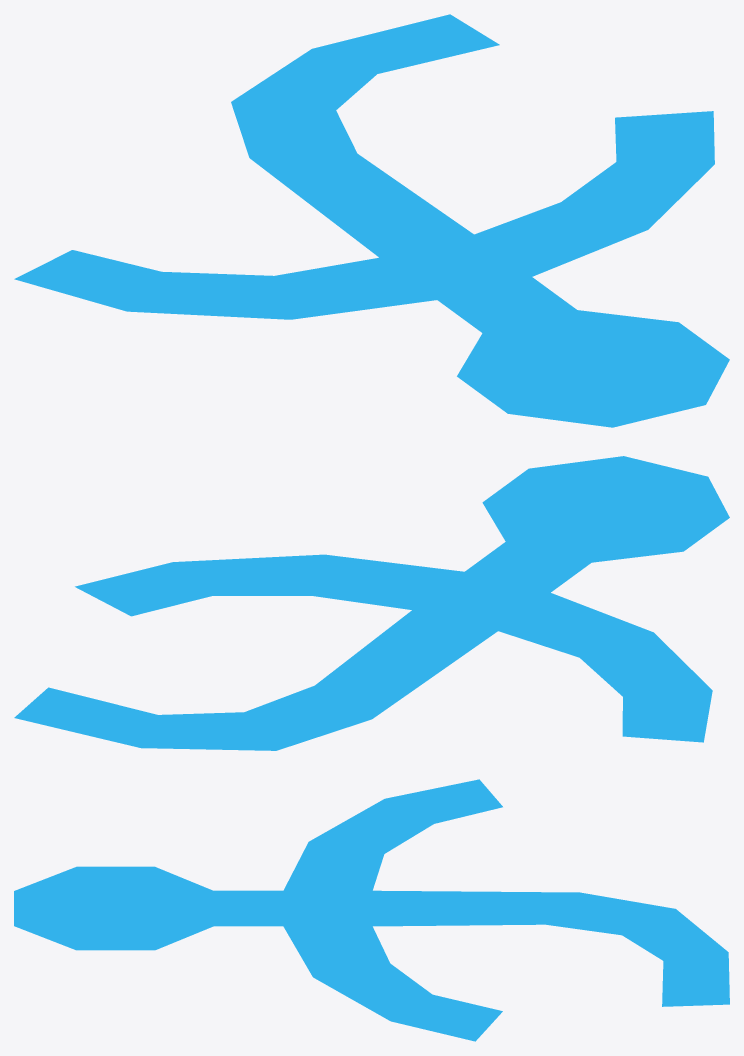
Rendered from hieroglyph_005.glb.
3 views of the same model, one above another, from view 1: azimuth 30°, elevation 25°; view 2: azimuth 150°, elevation 25°; view 3: azimuth 270°, elevation 25° (orthographic). The views are drawn at different scales.
Parts seen in each view (by area): view 1: hieroglyph_005; view 2: hieroglyph_005; view 3: hieroglyph_005.
Boxes of the visible parts, <box> form: hieroglyph_005: <box>14,14,729,427</box>; hieroglyph_005: <box>14,456,729,750</box>; hieroglyph_005: <box>14,779,729,1041</box>.
Size of the model in its own units: 0.5532 by 0 by 0.6382.
Materials: 1 (1 with a texture image).
